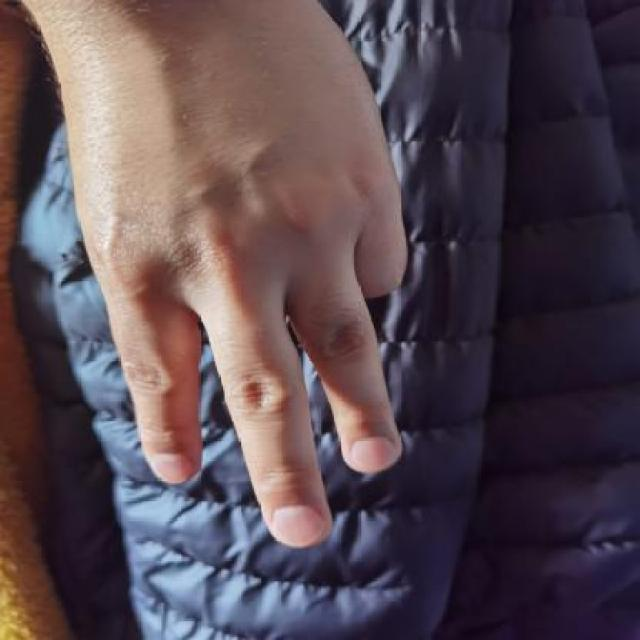M: (26, 0, 460, 560)
